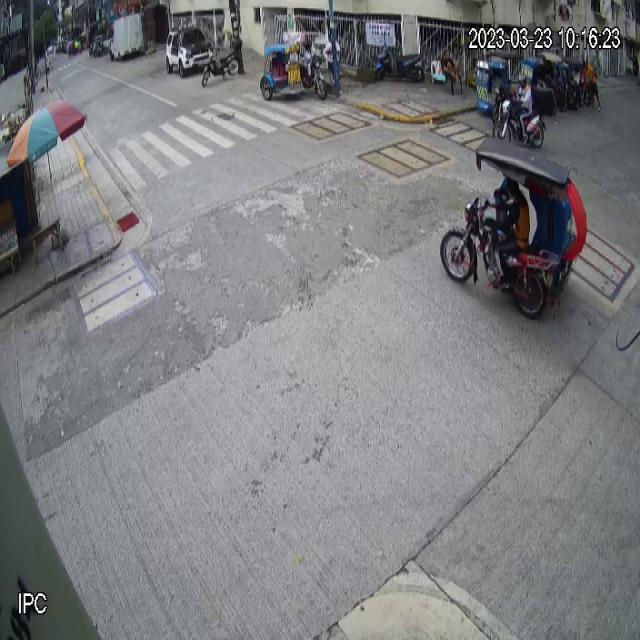Tricycle: (438, 138, 578, 320), (260, 30, 328, 101)
